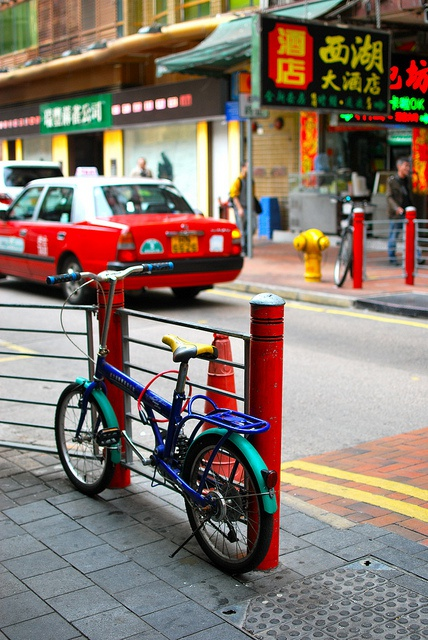non-vehicle: (48, 260, 280, 574), (335, 208, 358, 287)
